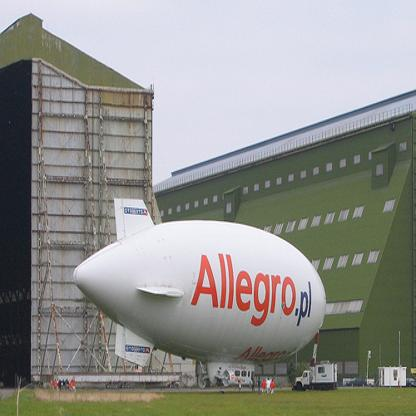Airship: (73, 196, 326, 367)
